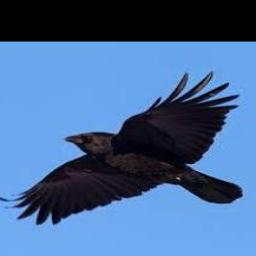Crow: (0, 71, 244, 224)
